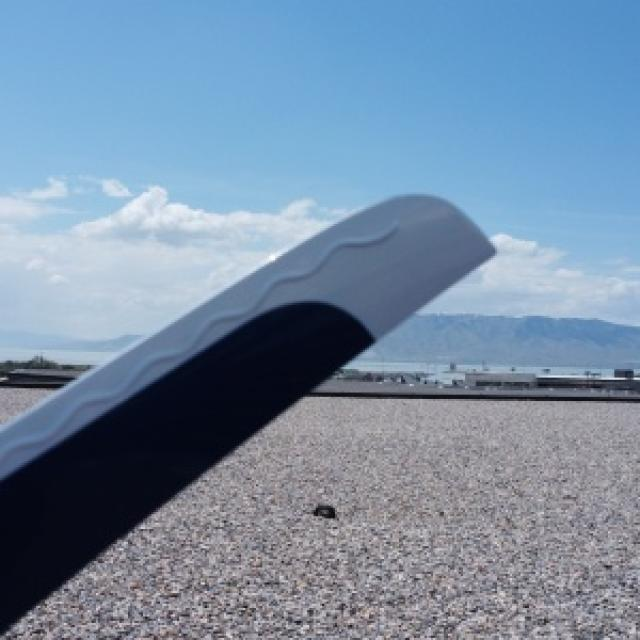healthy: (0, 192, 491, 631)
